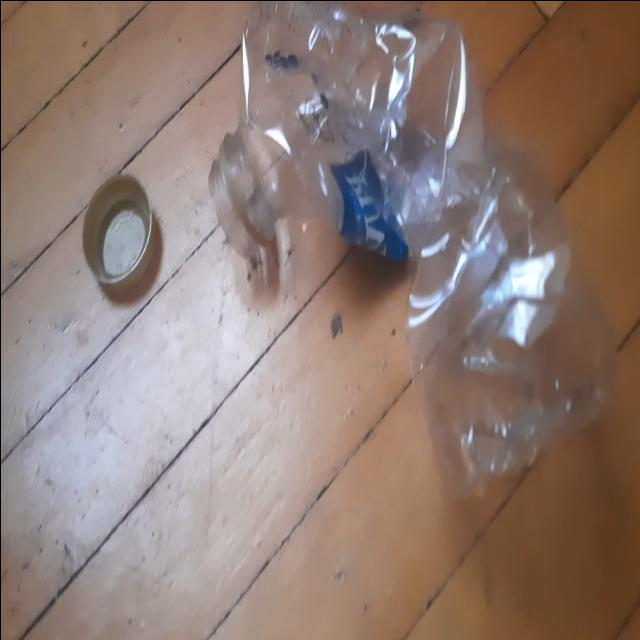Plastic: (214, 3, 616, 500)
